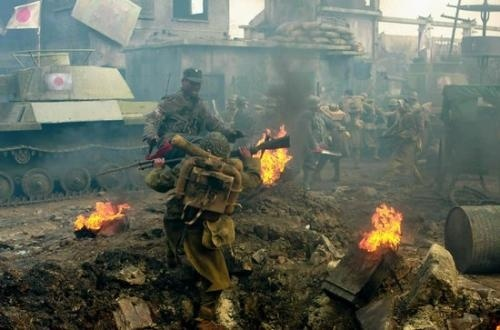fire: (249, 125, 293, 184), (359, 201, 404, 253), (71, 197, 130, 232)
